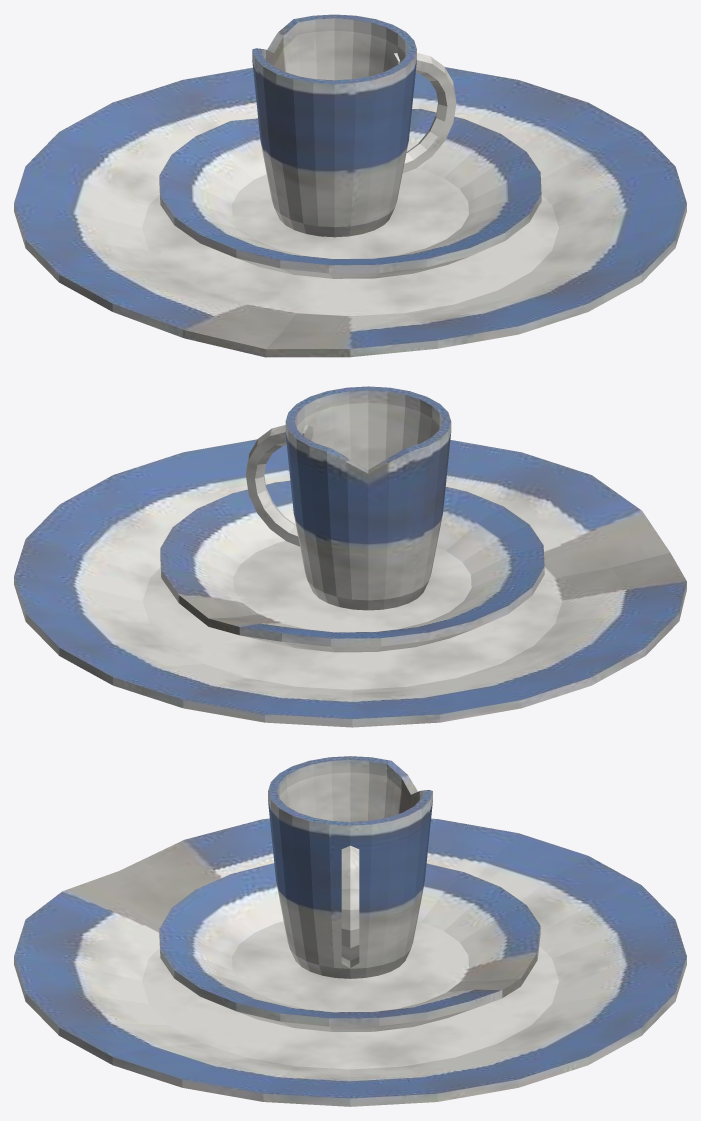
Rendered from K19_plates_and_cups_set_v1.glb.
The picture shows the model from 3 angles, top to bottom: view 1: azimuth 30°, elevation 25°; view 2: azimuth 150°, elevation 25°; view 3: azimuth 270°, elevation 25°; orthographic projection.
Parts seen in each view (by area): view 1: Chipped dinner plate; view 2: Chipped dinner plate; view 3: Chipped dinner plate.
Boxes of the visible parts, left/top/right/bottom form: Chipped dinner plate: left=14, top=14, right=686, bottom=357; Chipped dinner plate: left=14, top=386, right=686, bottom=727; Chipped dinner plate: left=14, top=756, right=686, bottom=1106.
Bounding box in the file's own units: 0.3 × 0.098 × 0.3.
Materials: 3 (3 with a texture image).
